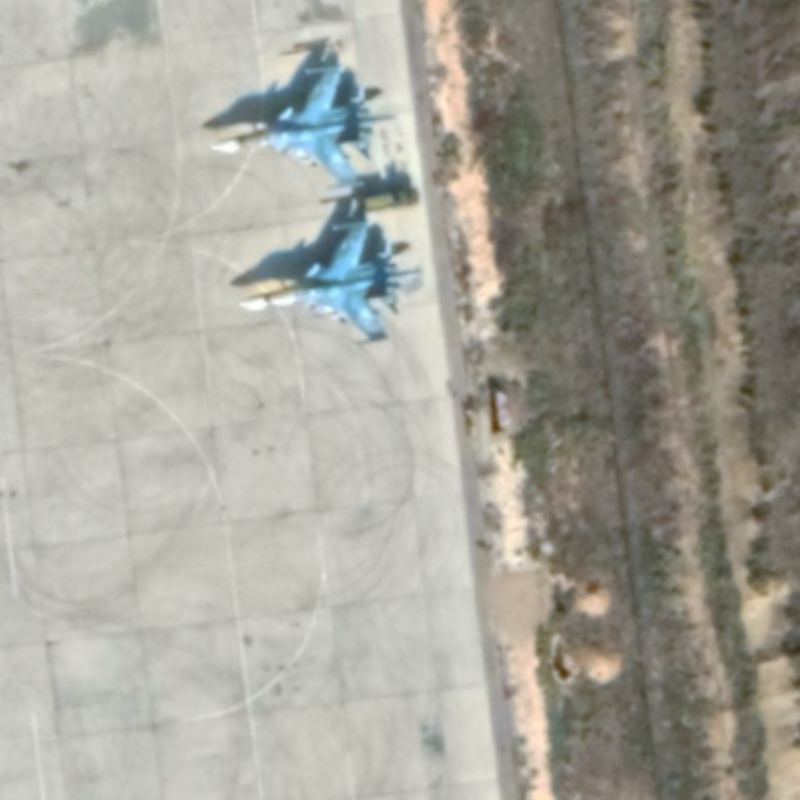A19: (205, 62, 399, 192), (235, 216, 424, 348)
